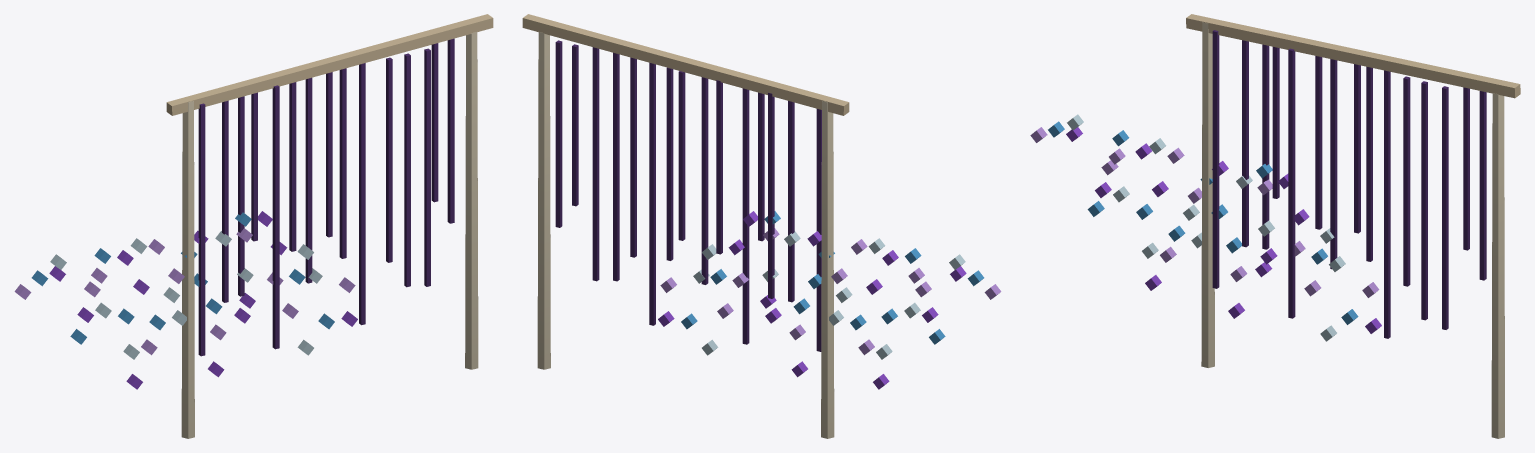
The model's file is vine_curtain.glb.
The picture shows the model from 3 angles, left to right: view 1: azimuth 30°, elevation 25°; view 2: azimuth 150°, elevation 25°; view 3: azimuth 330°, elevation 25°; orthographic projection. The views are drawn at different scales.
Parts seen in each view (by area): view 1: vine_curtain; view 2: vine_curtain; view 3: vine_curtain.
Boxes of the visible parts, x1,y1,x2,y2 form: vine_curtain: (14,14,493,438); vine_curtain: (522,14,1001,438); vine_curtain: (1030,14,1520,438).
Size of the model in its own units: 5.02 by 3.5 by 0.1699.
